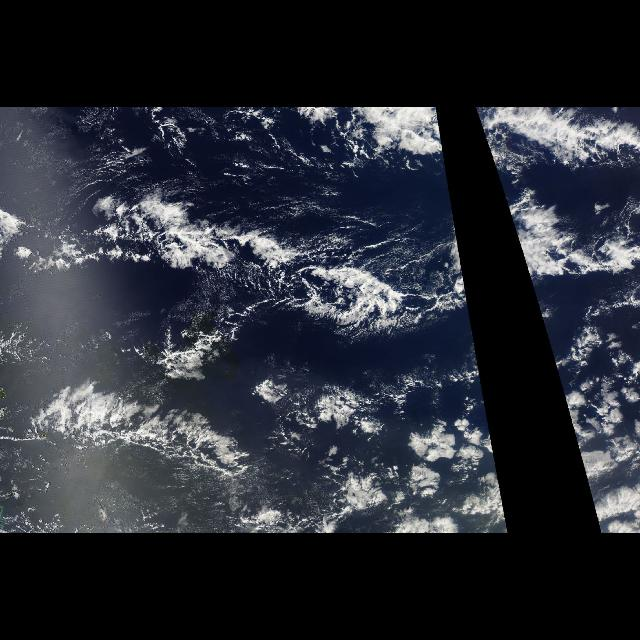Fish: (19, 172, 457, 490)
Flower: (304, 322, 506, 522), (542, 322, 624, 522)
